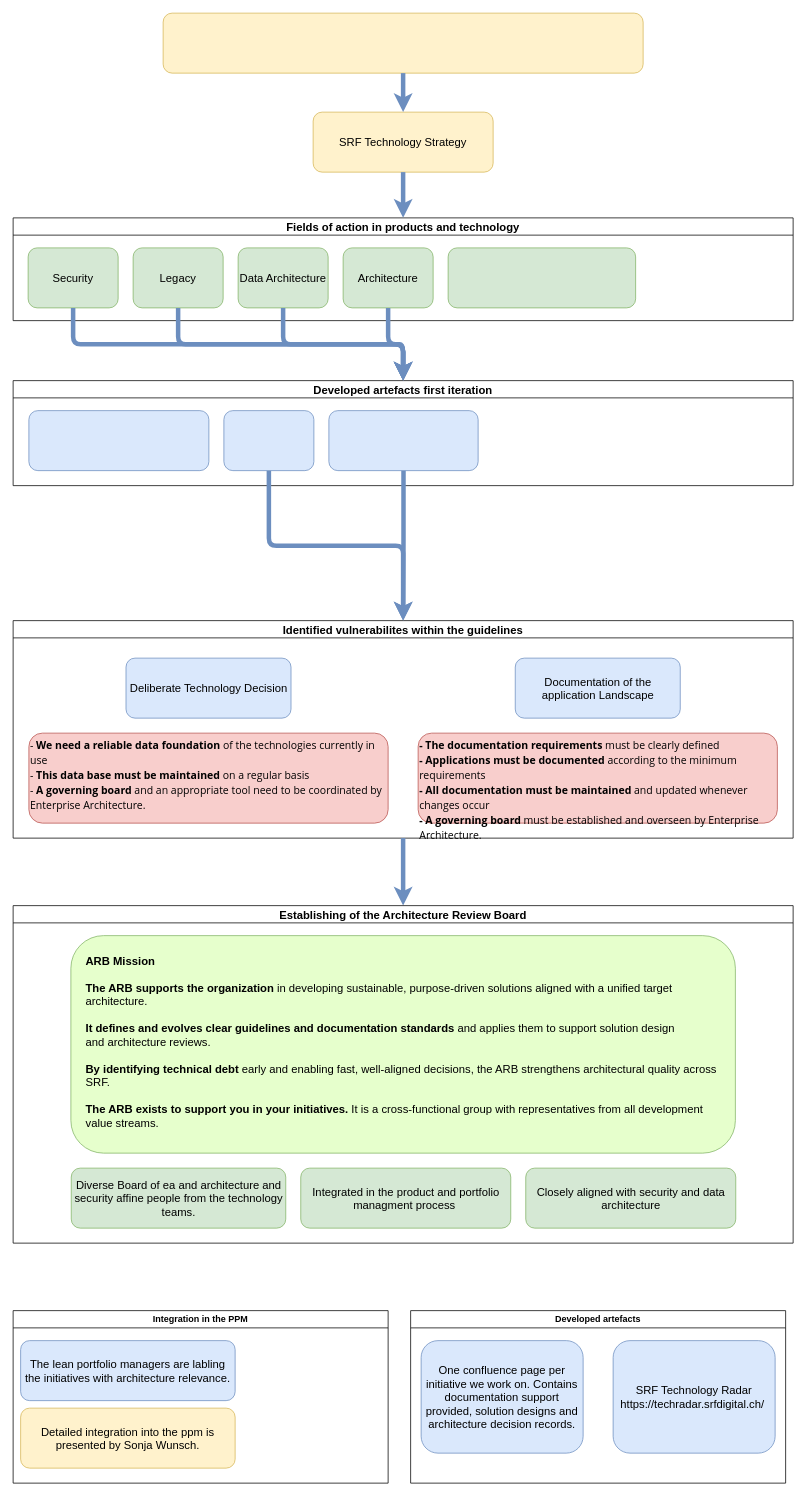
Image size: 806x1496. Some labels were removed from this diagram. Here are the shapes that lost their labels. From the top down, the centre of each, then its label:
the point at 402,42: SRG Strategy Building
the point at 541,277: Many more like National Strategy SITS , Efficency Optimization , ...
the point at 118,440: Exchange between Security, Legacy, Data Architecture and Architecture
the point at 268,440: Architecture Guidelines
the point at 403,440: Establishing the guidelines within the technology Teams
